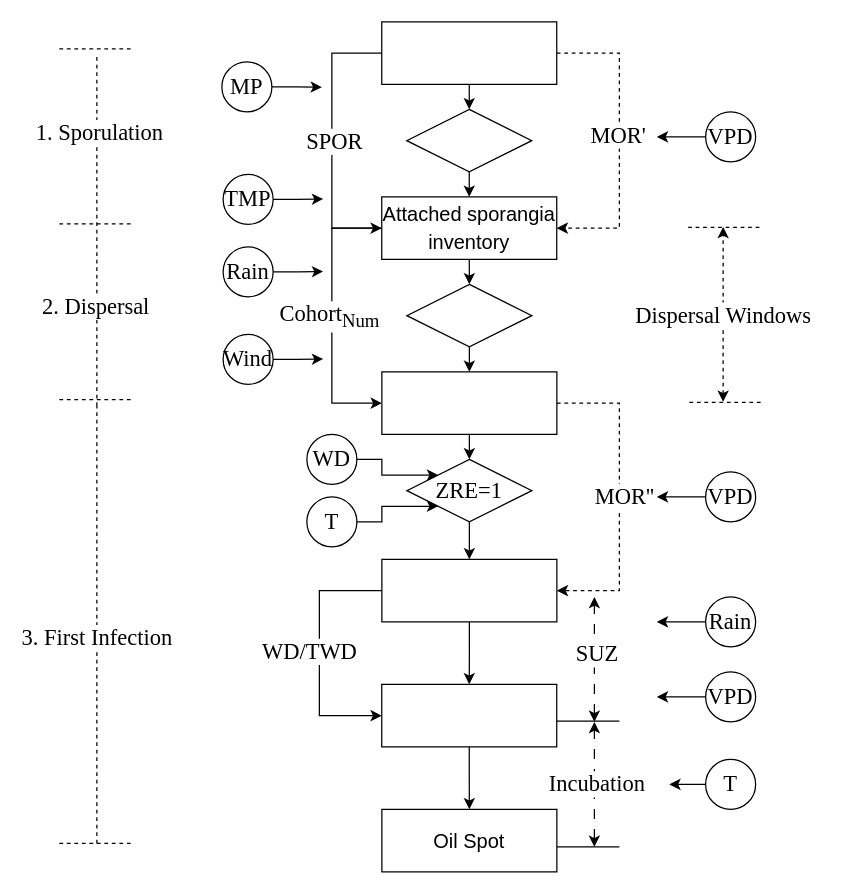
This 866x894 diagram has some shape labels left out. Each missing label, with the box of its shape:
Detached sporangia inventory: (381, 371, 557, 434)
DIS=1: (406, 283, 532, 347)
Infection: (380, 683, 557, 747)
Inoculum sources in the area: (380, 21, 557, 84)
SPO=1: (406, 108, 532, 172)
Zoospore: (381, 558, 557, 622)
